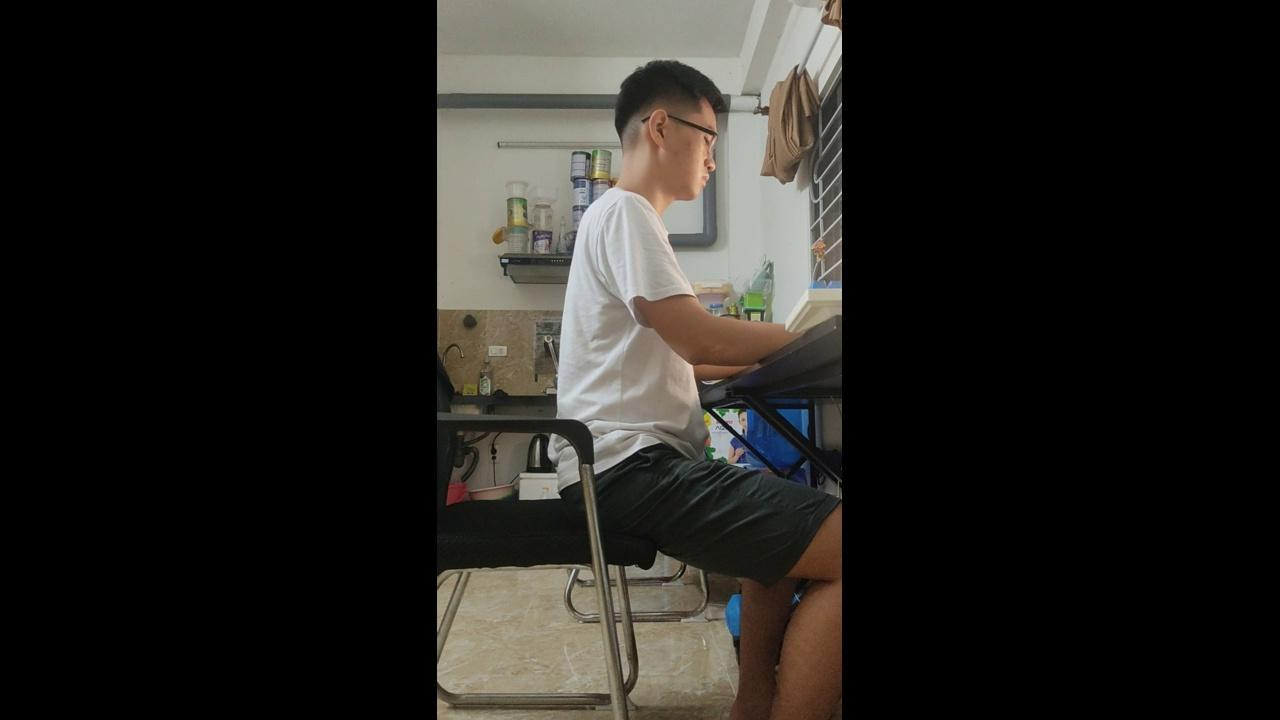GoodPosture: (557, 61, 844, 719), (558, 59, 795, 489)
